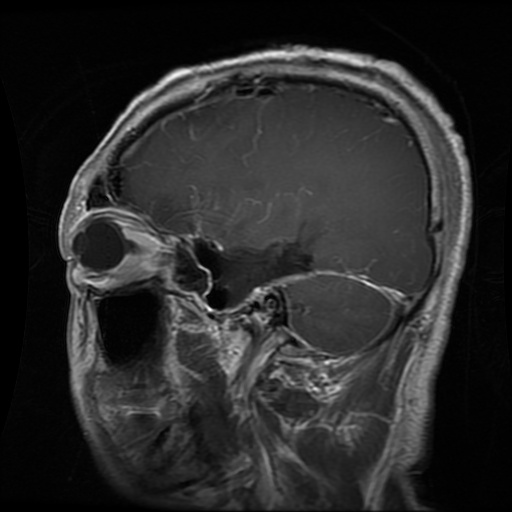glioma: (185, 234, 315, 309)
